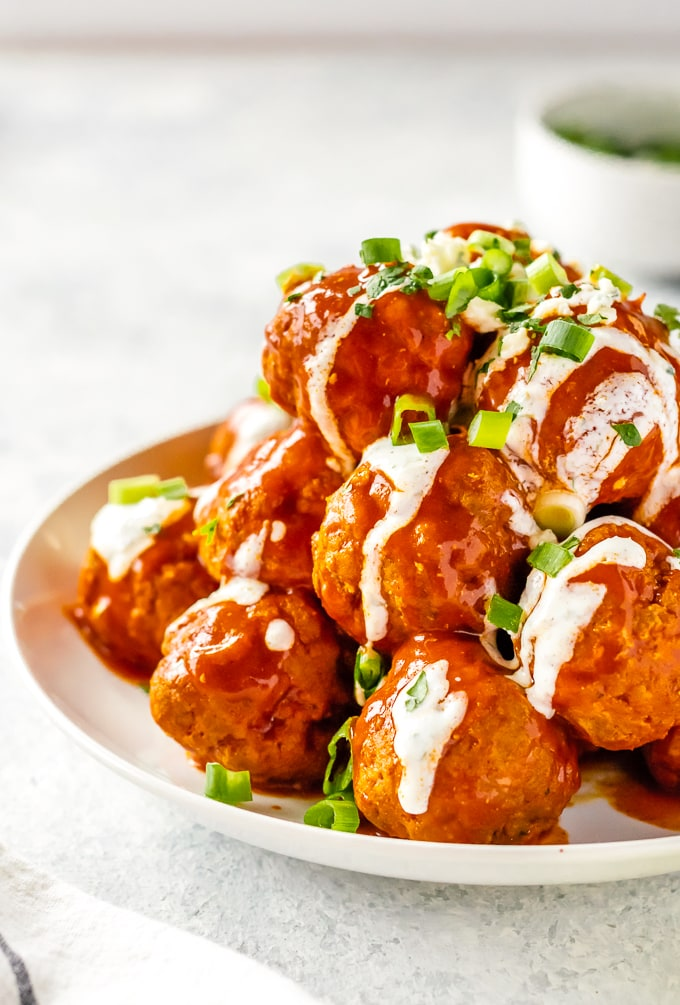meatballs: (120, 250, 680, 794)
